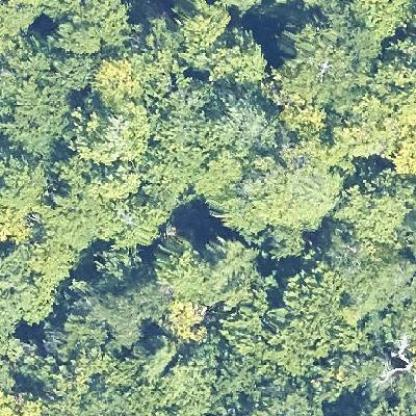tree-top: (272, 20, 366, 108), (72, 95, 153, 162), (42, 0, 131, 59), (278, 259, 353, 327), (0, 151, 50, 247), (339, 179, 404, 241), (90, 57, 148, 110), (161, 296, 215, 346), (211, 34, 264, 84)
